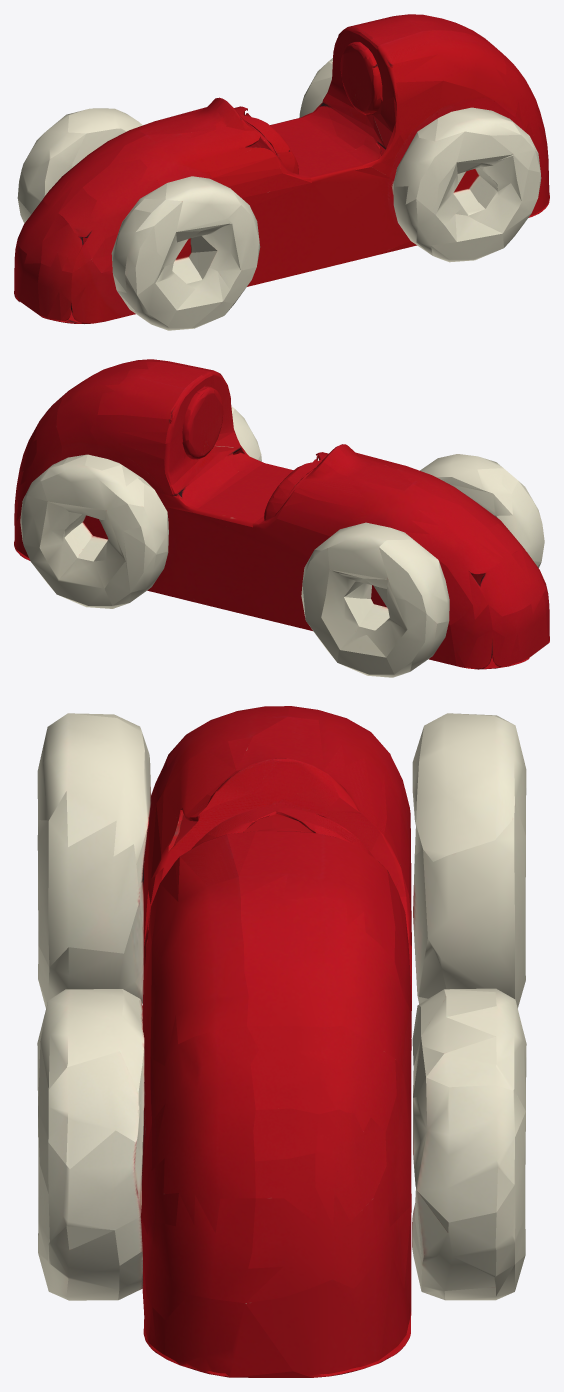
File: charm-toy-car.glb
3 views of the same model, one above another, from view 1: azimuth 30°, elevation 25°; view 2: azimuth 150°, elevation 25°; view 3: azimuth 270°, elevation 25° (orthographic). The views are drawn at different scales.
Visible parts, largest first — view 1: Mesh_0; view 2: Mesh_0; view 3: Mesh_0.
Boxes of the visible parts, <box> form: Mesh_0: <box>14,14,549,330</box>; Mesh_0: <box>14,359,549,677</box>; Mesh_0: <box>37,706,526,1377</box>.
Bounding box in the file's own units: 1.9 × 0.7198 × 0.79.
Materials: 1 (1 with a texture image).
